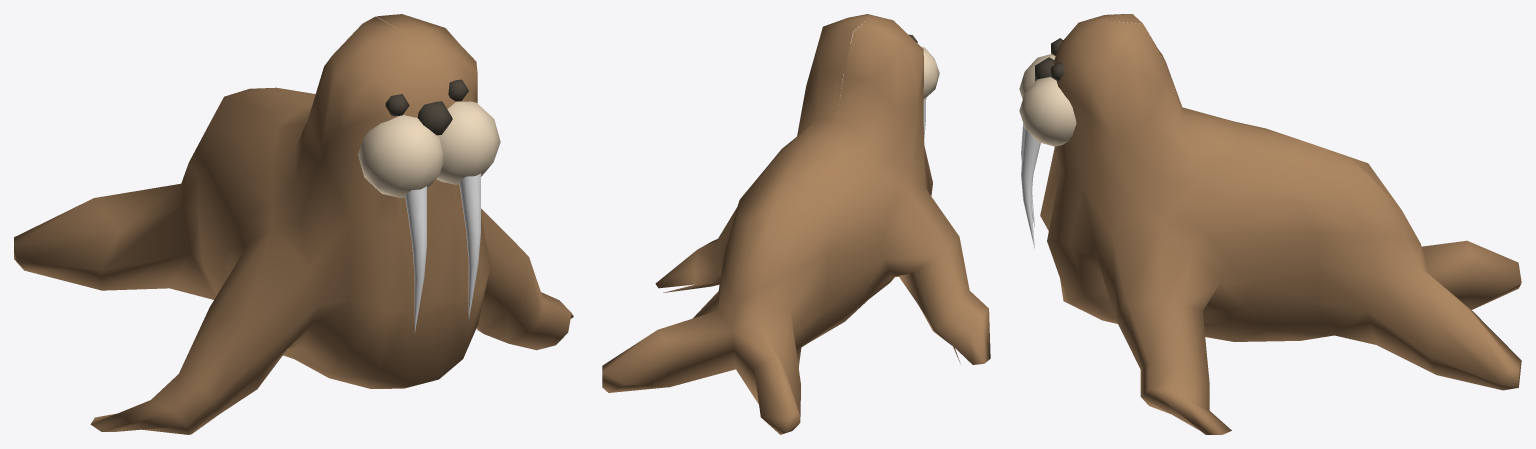
Rendered from 4faf999b-6192-470c-803e-8dd951111294.glb.
3 views of the same model, side by side, from view 1: azimuth 30°, elevation 25°; view 2: azimuth 150°, elevation 25°; view 3: azimuth 270°, elevation 25° (orthographic). The views are drawn at different scales.
Parts seen in each view (by area): view 1: Platonic.1; view 2: Platonic.1; view 3: Platonic.1.
Boxes of the visible parts, left/top/right/bottom form: Platonic.1: left=14, top=14, right=573, bottom=434; Platonic.1: left=602, top=14, right=990, bottom=434; Platonic.1: left=1019, top=14, right=1521, bottom=434.
Bounding box in the file's own units: 869 × 685 × 972.
